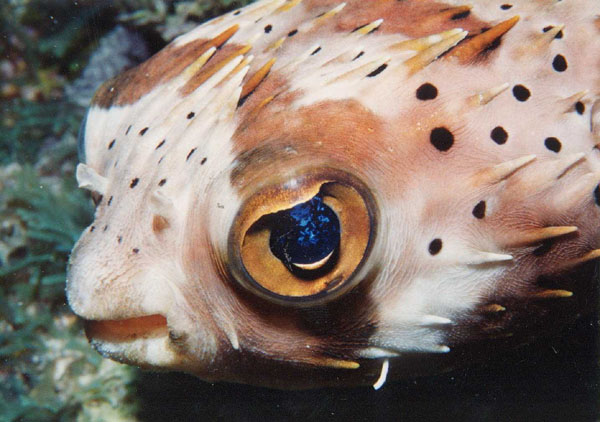Diodon_holocanthus: (58, 1, 600, 407)
